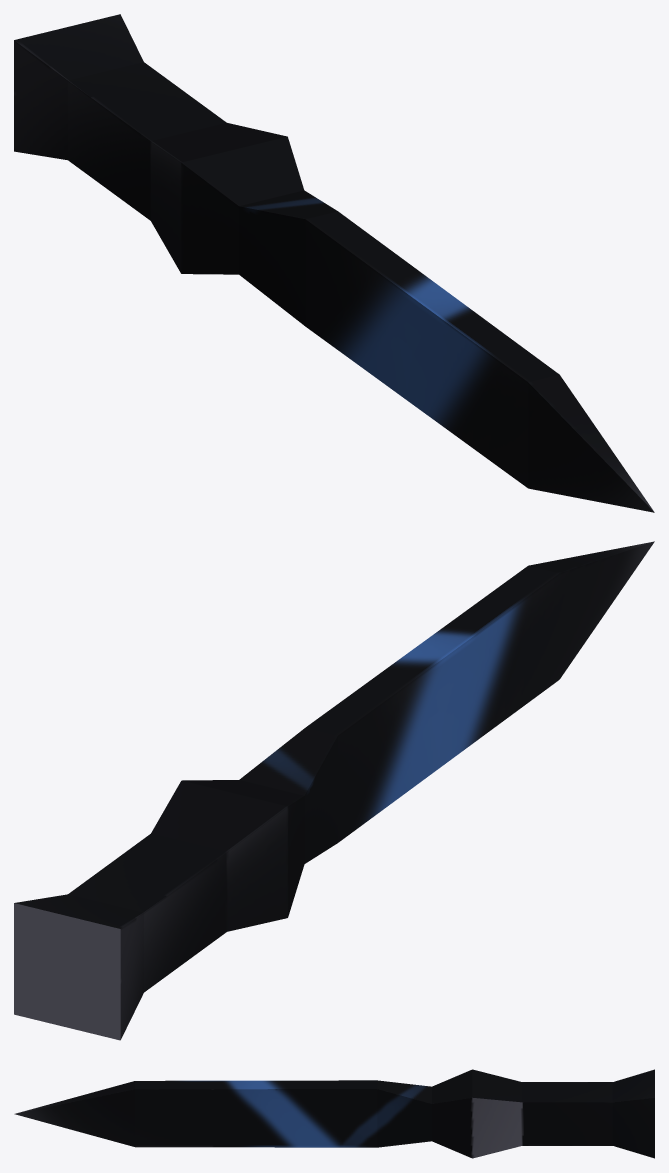
The model's file is Knife.fbx.
3 renders of one model, top to bottom at view 1: azimuth 30°, elevation 25°; view 2: azimuth 150°, elevation 25°; view 3: azimuth 270°, elevation 25°, orthographic. The views are drawn at different scales.
Parts seen in each view (by area): view 1: Cube; view 2: Cube; view 3: Cube.
Boxes of the visible parts, x1=… form: Cube: x1=14, y1=14, x2=654, y2=512; Cube: x1=14, y1=541, x2=654, y2=1040; Cube: x1=14, y1=1069, x2=654, y2=1158.
Size of the model in its own units: 46.35 by 46.35 by 443.
Materials: 1 (1 with a texture image).
